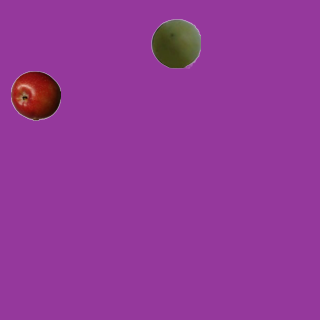Apple Braeburn: (10, 70, 60, 120)
Grape White 4: (150, 18, 200, 68)
